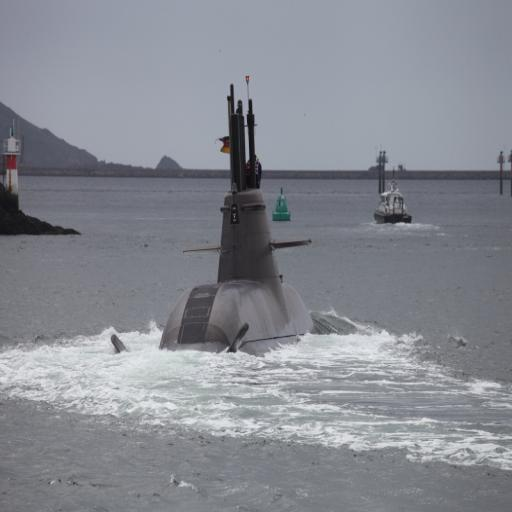submarine: (105, 70, 347, 373)
